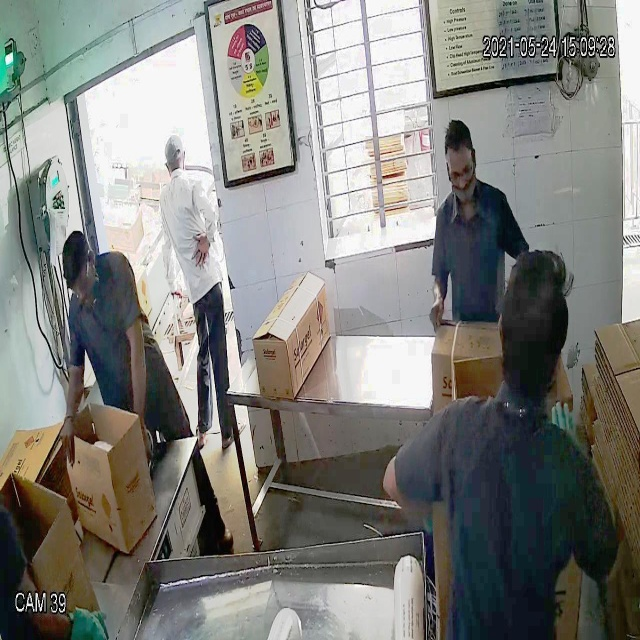Gafas: (68, 254, 92, 307), (442, 154, 478, 186)
